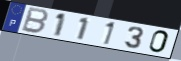0: (148, 30, 170, 54)
1: (53, 13, 68, 38), (76, 17, 91, 42), (103, 22, 117, 46)
3: (123, 26, 147, 49)
B: (19, 6, 51, 35)
